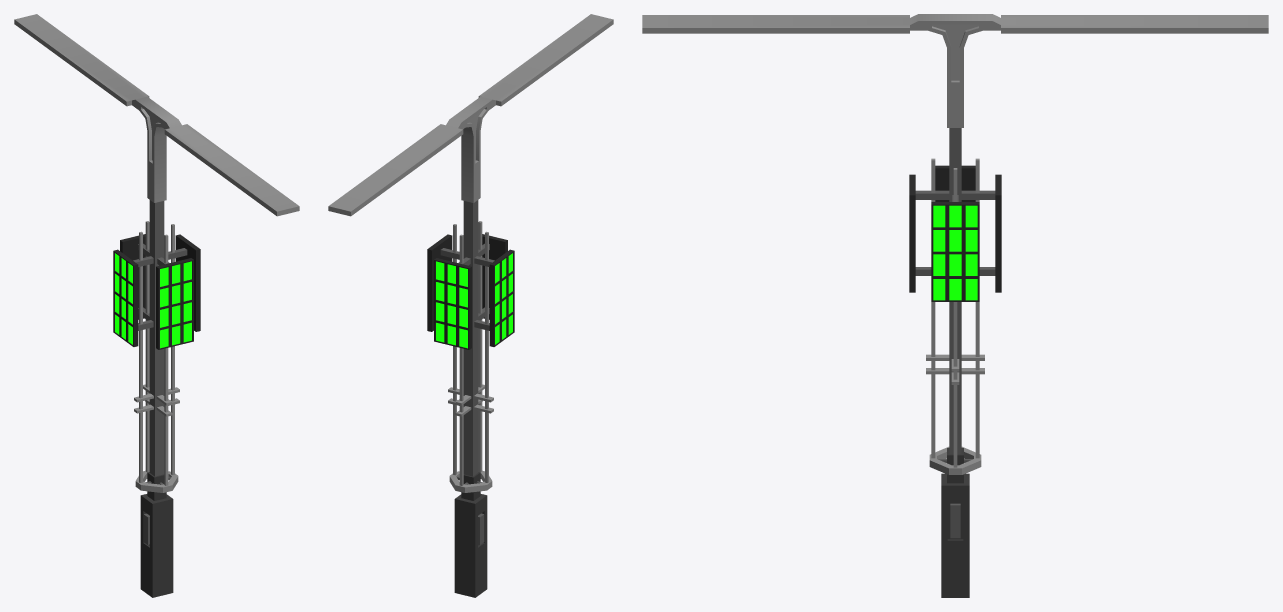
The model's file is Street_Lamp_02.FBX.
3 views of the same model, side by side, from view 1: azimuth 30°, elevation 25°; view 2: azimuth 150°, elevation 25°; view 3: azimuth 270°, elevation 25° (orthographic). The views are drawn at different scales.
Visible parts, largest first — view 1: Street_Lamp_02_LOD0, Street_Lamp_01_Deco_LOD0; view 2: Street_Lamp_02_LOD0, Street_Lamp_01_Deco_LOD0; view 3: Street_Lamp_02_LOD0, Street_Lamp_01_Deco_LOD0.
Boxes of the visible parts, box(x1,y1,x2,y2) form: Street_Lamp_02_LOD0: box(14, 14, 299, 597); Street_Lamp_01_Deco_LOD0: box(113, 221, 200, 492); Street_Lamp_02_LOD0: box(328, 14, 613, 597); Street_Lamp_01_Deco_LOD0: box(427, 221, 514, 492); Street_Lamp_02_LOD0: box(642, 14, 1268, 597); Street_Lamp_01_Deco_LOD0: box(909, 158, 1001, 474).
Size of what is drawn, in the model's own units: 42.83 by 294 by 291.
